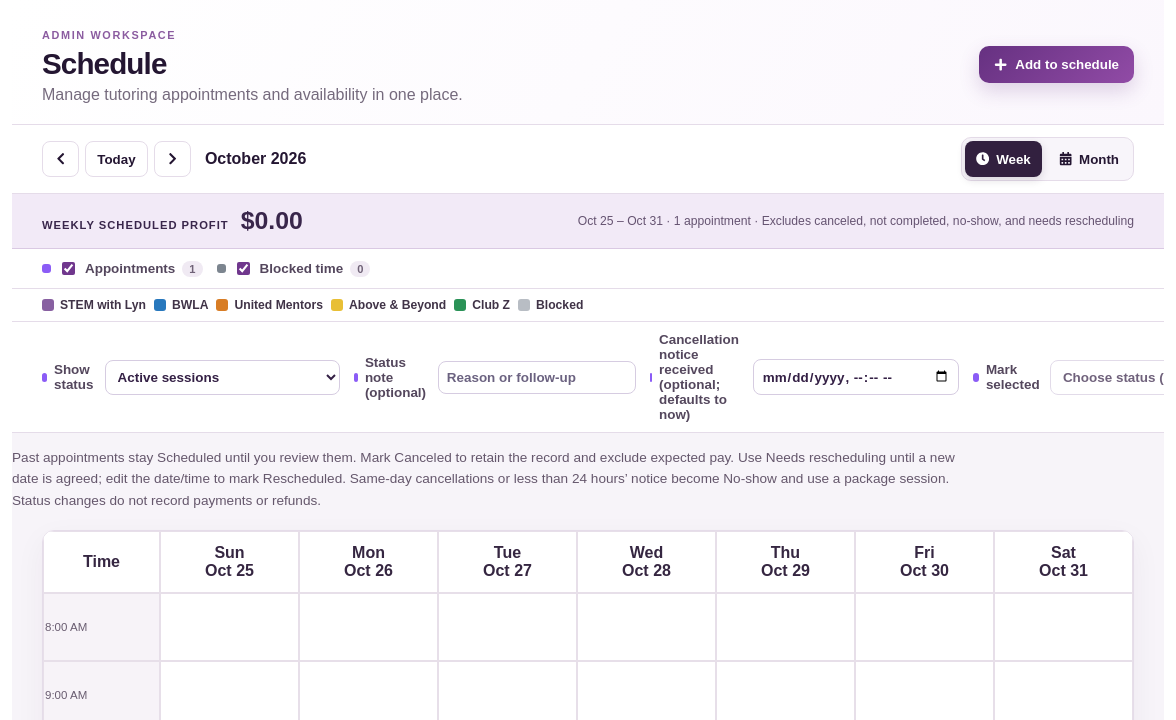
Test: canceled sessions leave the default schedule but remain available in history filters
Expected: the text "Unconfirmed canceled tutoring" is not shown
Select "Canceled" in the dropdown labelled "Show status": (222, 377) [105,360,340,394]
(page scrolled)
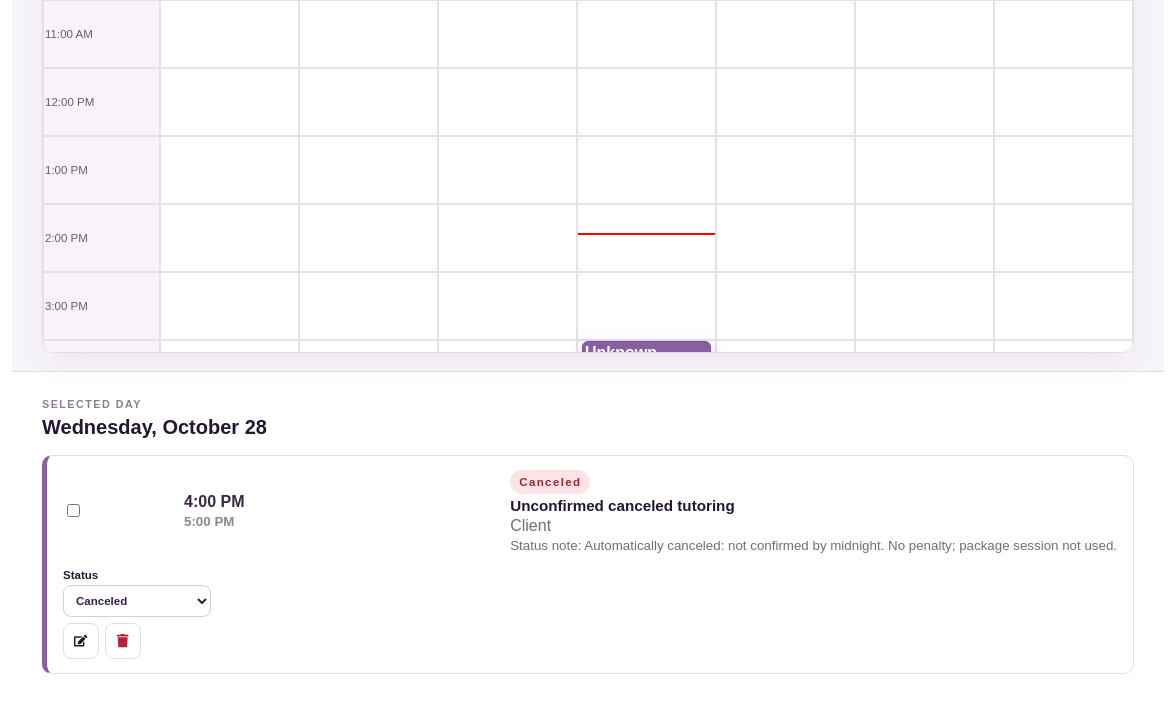
Now the text "Unconfirmed canceled tutoring" is shown, box [510,497,735,514]
Now the text "Status note: Automatically canceled" is shown, box [510,538,1117,553]
